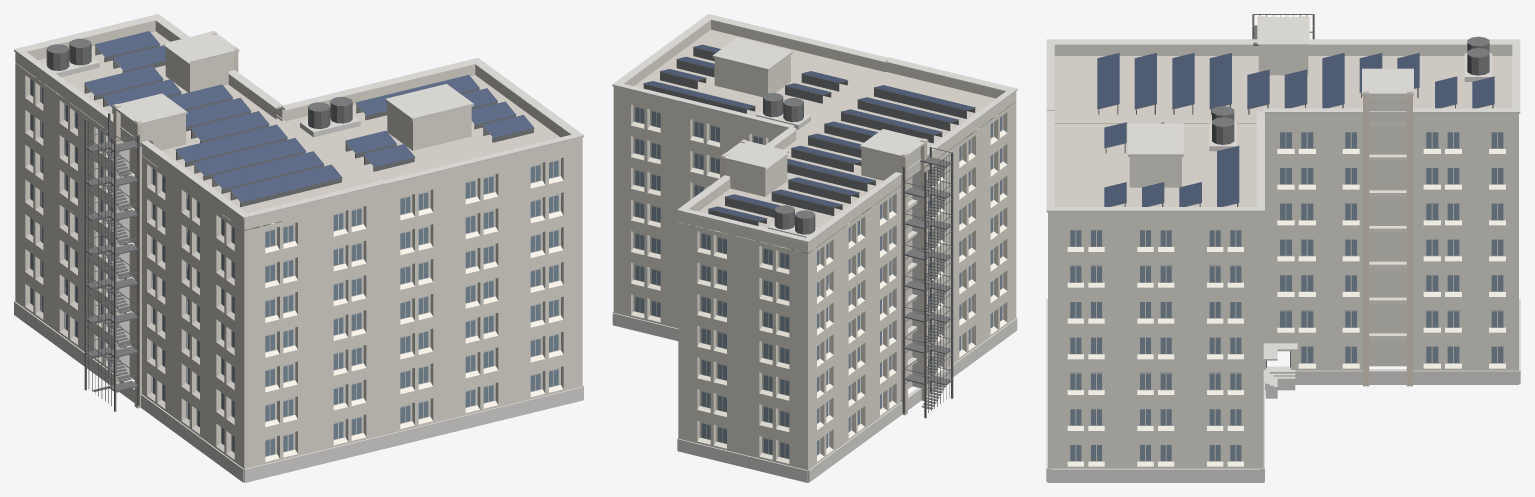
The model's file is Girls_Hostel_C.fbx.
3 renders of one model, left to right at view 1: azimuth 30°, elevation 25°; view 2: azimuth 150°, elevation 25°; view 3: azimuth 270°, elevation 25°, orthographic. The views are drawn at different scales.
Visible parts, largest first — view 1: Girls_Hostel_C; view 2: Girls_Hostel_C; view 3: Girls_Hostel_C.
Boxes of the visible parts, x1=… form: Girls_Hostel_C: x1=14, y1=14, x2=583, y2=482; Girls_Hostel_C: x1=612, y1=14, x2=1017, y2=482; Girls_Hostel_C: x1=1046, y1=14, x2=1520, y2=482.
Size of the model in its own units: 37.8 by 27.96 by 40.84.
